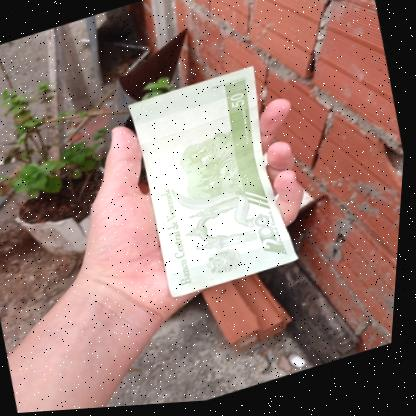fifty-back-vef: (119, 64, 313, 306)
